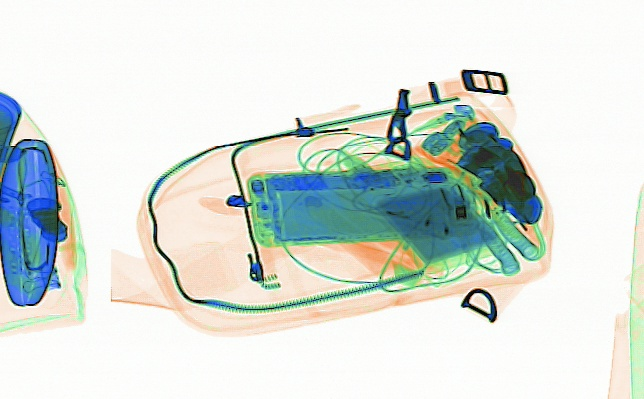lighter: (441, 100, 502, 177)
